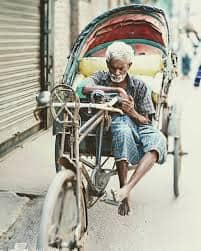Rickshaw: (29, 1, 189, 249)
